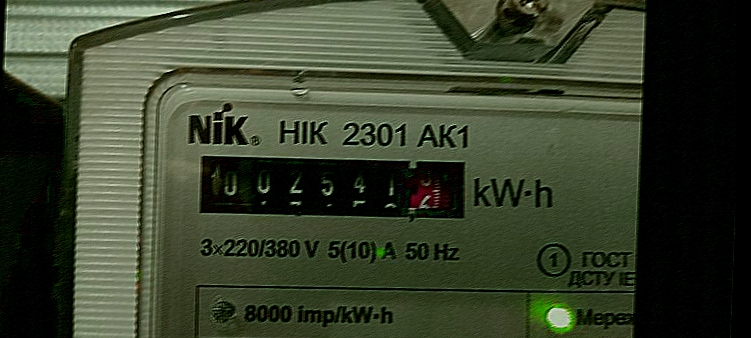0: (254, 164, 274, 198), (223, 169, 241, 199)
1: (382, 166, 399, 200)
2: (285, 164, 307, 199)
4: (351, 166, 369, 198)
5: (319, 168, 336, 200)
6: (416, 191, 433, 213)
screen: (185, 139, 488, 240)
